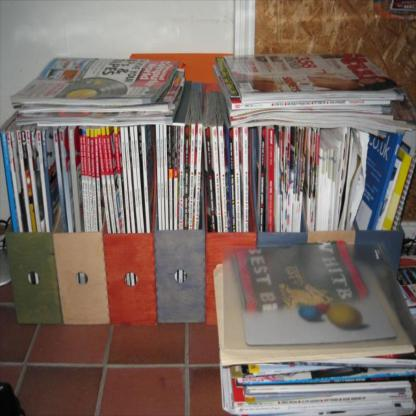book: (2, 54, 416, 415)
